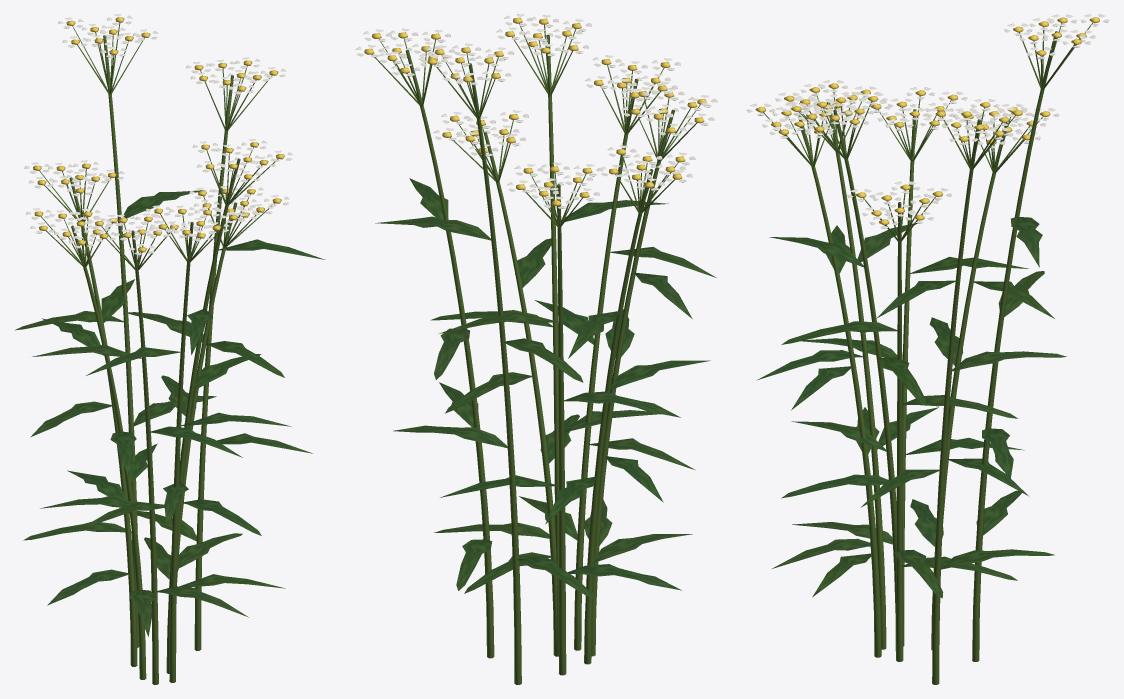
The model's file is b-yarrow.glb.
3 renders of one model, left to right at view 1: azimuth 30°, elevation 25°; view 2: azimuth 150°, elevation 25°; view 3: azimuth 270°, elevation 25°, orthographic. The views are drawn at different scales.
Parts seen in each view (by area): view 1: Stems, Foliage, Flowers; view 2: Stems, Foliage, Flowers; view 3: Stems, Foliage, Flowers.
Boxes of the visible parts, x1=… form: Stems: x1=39, y1=22, x2=278, y2=684; Foliage: x1=15, y1=190, x2=325, y2=636; Flowers: x1=24, y1=14, x2=292, y2=255; Stems: x1=372, y1=23, x2=700, y2=684; Foliage: x1=375, y1=178, x2=716, y2=600; Flowers: x1=355, y1=14, x2=717, y2=208; Stems: x1=763, y1=22, x2=1093, y2=684; Foliage: x1=756, y1=216, x2=1066, y2=598; Flowers: x1=746, y1=14, x2=1109, y2=228.
Bounding box in the file's own units: 0.304 × 0.62 × 0.3198.
Materials: 3 (1 with a texture image).
